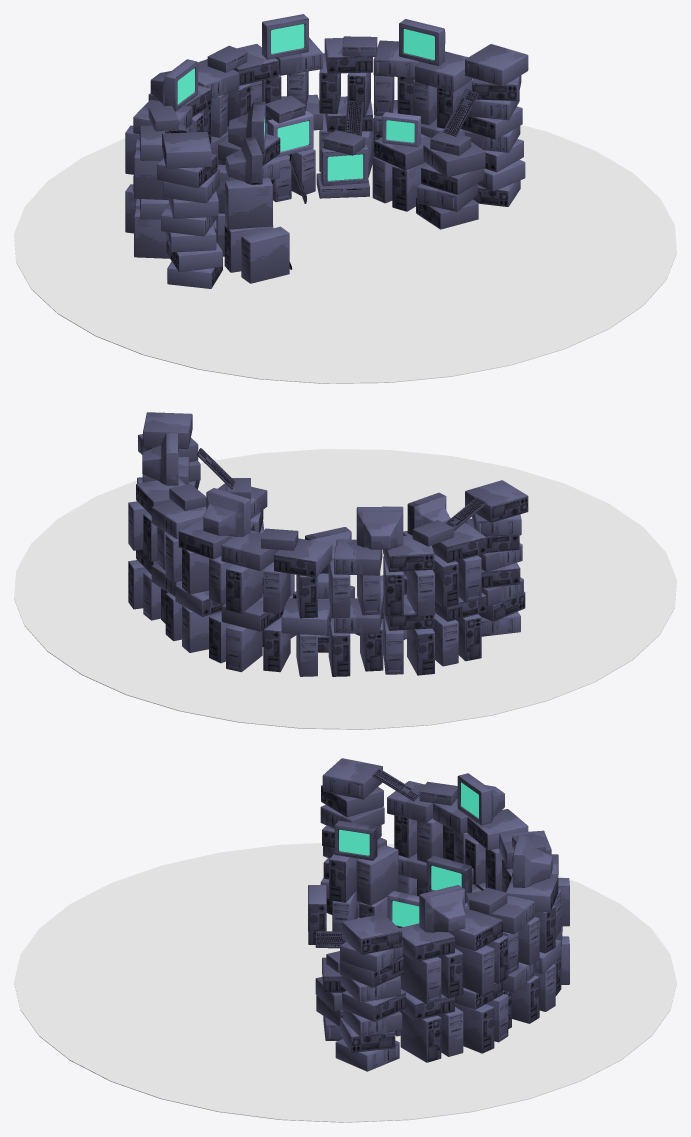
The model's file is retropc.glb.
3 renders of one model, top to bottom at view 1: azimuth 30°, elevation 25°; view 2: azimuth 150°, elevation 25°; view 3: azimuth 270°, elevation 25°, orthographic.
Visible parts, largest first — view 1: Cylinder, PC 01.011_30, PC 01.010_29, PC 02.026_76, PC 02.012_38, PC 01.052_97, PC 01.007_23, Screen B.002_107, Screen D.002_108, PC 02.013_40, Screen B.001_103, PC 02.036_100 (+60 smaller); view 2: Cylinder, Screen D.002_108, Screen D.003_109, PC 02.012_38, PC 01.032_64, PC 02.021_61, PC 01.031_63, PC 01.033_65, Screen D.004_110, PC 02.026_76, PC 02.016_47, PC 02.022_66 (+50 smaller); view 3: Cylinder, PC 01.005_17, Screen D.004_110, PC 02.026_76, PC 02.012_38, PC 02.027_78, PC 02.032_90, Screen D.003_109, PC 01.052_97, PC 01.038_77, PC 01.047_89, PC 02.036_100 (+43 smaller).
Boxes of the visible parts, x1,y1,x2,y2 form: Cylinder: [14, 103, 676, 383]; PC 01.011_30: [241, 226, 289, 283]; PC 01.010_29: [225, 178, 272, 229]; PC 02.026_76: [465, 44, 528, 86]; PC 02.012_38: [162, 131, 211, 168]; PC 01.052_97: [415, 51, 472, 91]; PC 01.007_23: [423, 142, 485, 177]; Screen B.002_107: [225, 137, 262, 184]; Screen D.002_108: [150, 59, 197, 111]; PC 02.013_40: [134, 208, 169, 258]; Screen B.001_103: [228, 101, 265, 154]; PC 02.036_100: [373, 40, 420, 77]; Cylinder: [14, 449, 676, 729]; Screen D.002_108: [356, 506, 403, 549]; Screen D.003_109: [203, 488, 250, 536]; PC 02.012_38: [465, 480, 528, 522]; PC 01.032_64: [274, 538, 332, 577]; PC 02.021_61: [226, 564, 262, 613]; PC 01.031_63: [334, 539, 382, 575]; PC 01.033_65: [221, 530, 277, 570]; Screen D.004_110: [142, 433, 178, 485]; PC 02.026_76: [143, 412, 192, 448]; PC 02.016_47: [226, 624, 262, 672]; PC 02.022_66: [383, 535, 434, 572]; Cylinder: [14, 843, 676, 1122]; PC 01.005_17: [356, 845, 398, 905]; Screen D.004_110: [419, 885, 465, 932]; PC 02.026_76: [342, 913, 402, 954]; PC 02.012_38: [322, 758, 382, 799]; PC 02.027_78: [400, 1010, 441, 1062]; PC 02.032_90: [400, 953, 441, 1004]; Screen D.003_109: [513, 835, 552, 887]; PC 01.052_97: [399, 923, 454, 961]; PC 01.038_77: [455, 1003, 494, 1053]; PC 01.047_89: [455, 945, 494, 994]; PC 02.036_100: [449, 908, 502, 950].
Size of the model in its own units: 22 by 5.56 by 22.
Materials: 3 (1 with a texture image).
